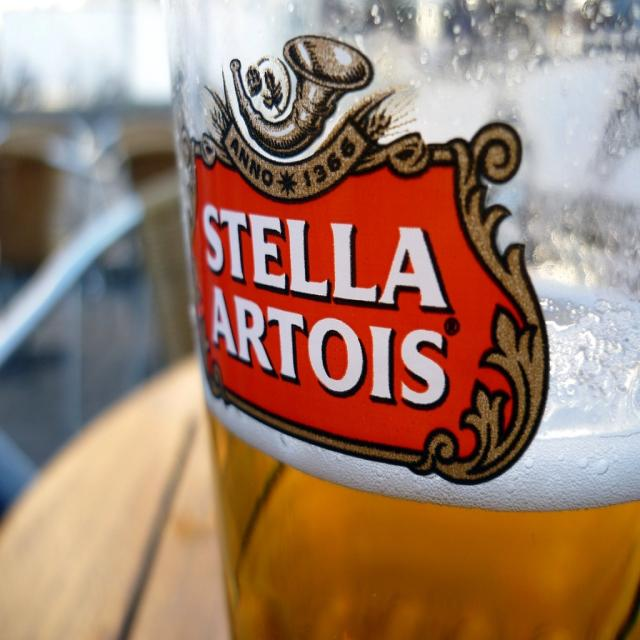stellaartois: (179, 28, 560, 496)
